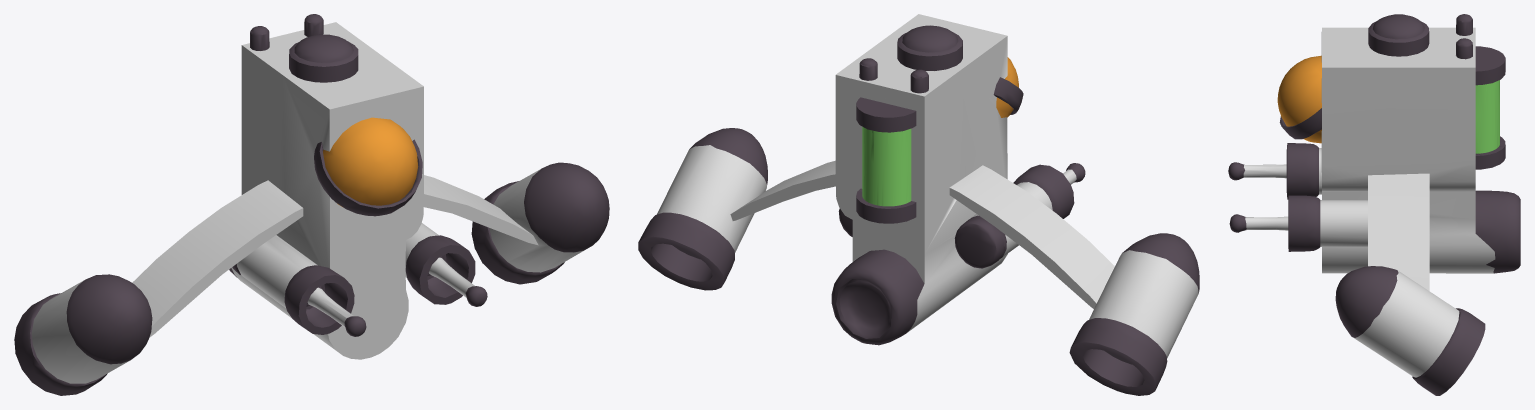
Rendered from space_ship.glb.
The picture shows the model from 3 angles, left to right: view 1: azimuth 30°, elevation 25°; view 2: azimuth 150°, elevation 25°; view 3: azimuth 270°, elevation 25°; orthographic projection. The views are drawn at different scales.
Visible parts, largest first — view 1: spaceship; view 2: spaceship; view 3: spaceship.
Part boxes in pixels (box(x1,y1,x2,y2)): spaceship: box(14, 14, 609, 395); spaceship: box(638, 14, 1199, 395); spaceship: box(1228, 14, 1520, 395).
Bounding box in the file's own units: 7.14 × 3.94 × 3.8.
